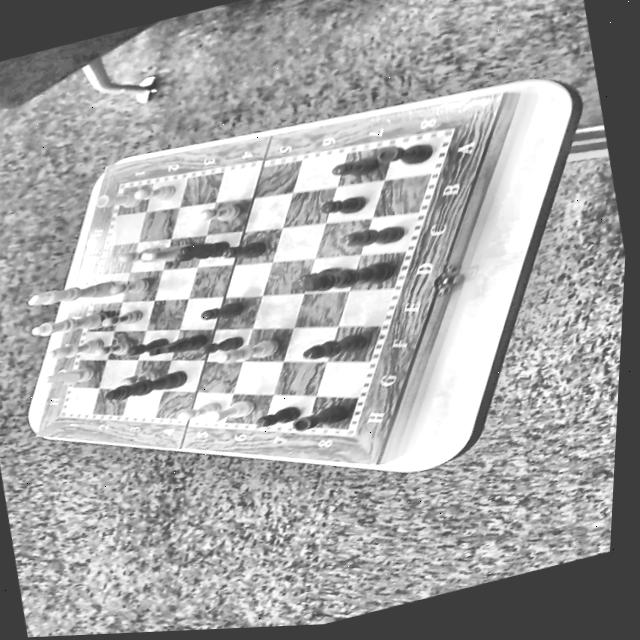chessboard: (67, 136, 441, 430)
